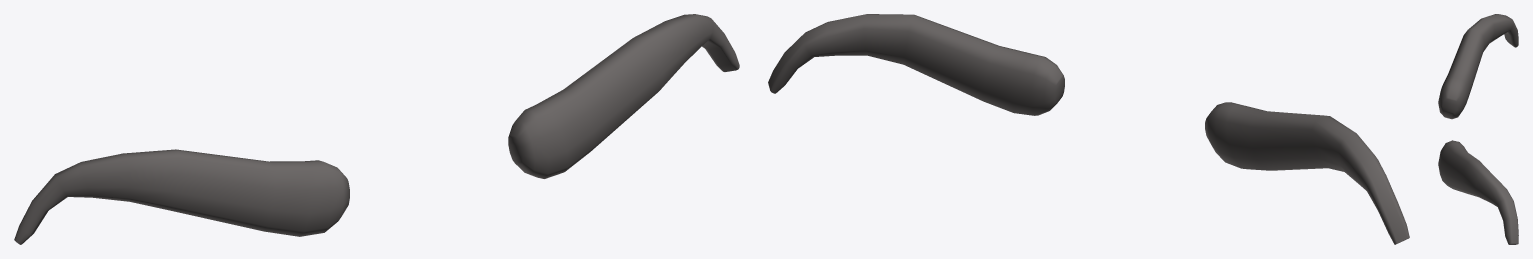
File: Eyebrows_20_04.fbx
3 renders of one model, left to right at view 1: azimuth 30°, elevation 25°; view 2: azimuth 150°, elevation 25°; view 3: azimuth 270°, elevation 25°, orthographic. The views are drawn at different scales.
Visible parts, largest first — view 1: Eyebrows_20_04; view 2: Eyebrows_20_04; view 3: Eyebrows_20_04.
Part boxes in pixels (x1,y1,x2,y2): Eyebrows_20_04: [14, 14, 739, 244]; Eyebrows_20_04: [768, 14, 1409, 244]; Eyebrows_20_04: [1438, 14, 1518, 244].
Bounding box in the file's own units: 19.57 × 2.5 × 3.27.
